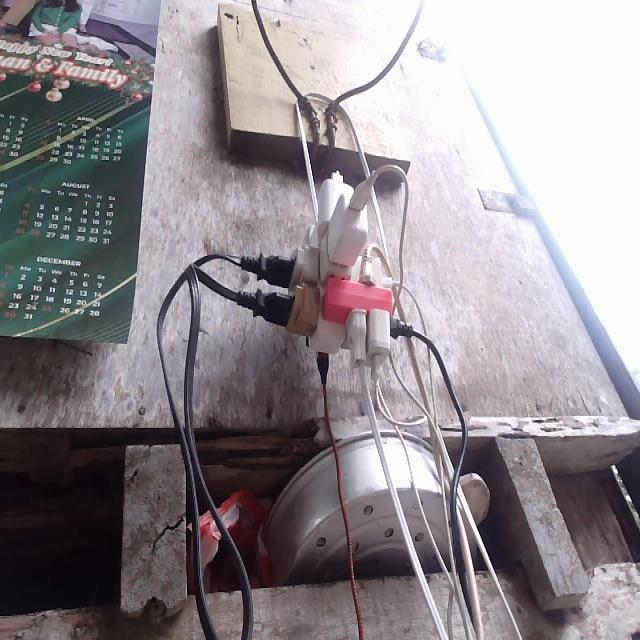-: (234, 168, 413, 379)
